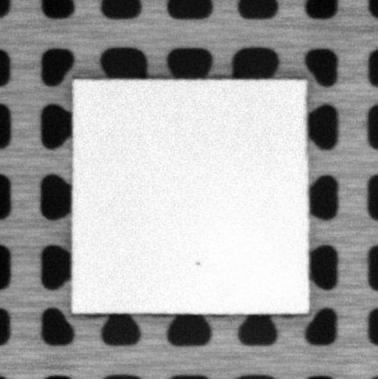DIE_INK: (193, 258, 202, 268)
